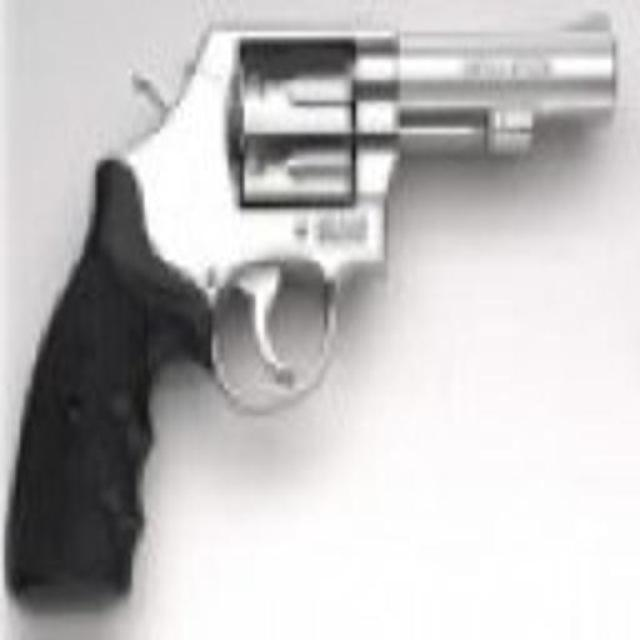pistol: (7, 15, 611, 602)
